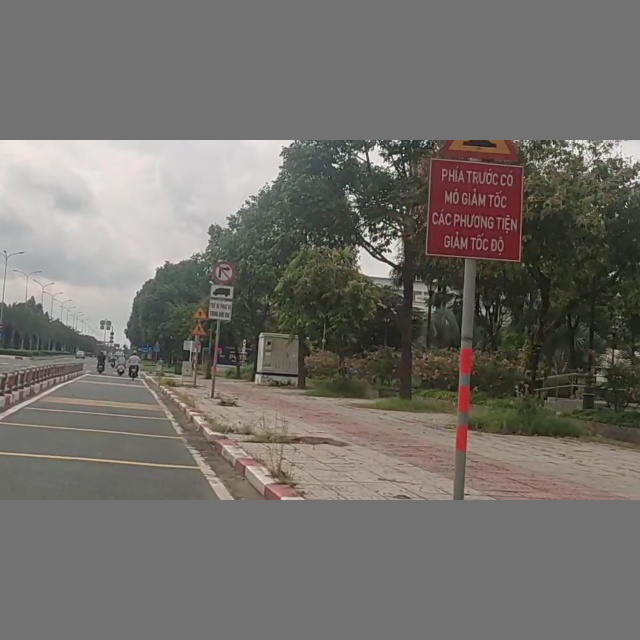P.123b: (212, 261, 234, 285)
S.505a*Xe tai: (208, 283, 233, 321)
W.207: (192, 306, 209, 320)
W.224: (190, 321, 207, 336)
